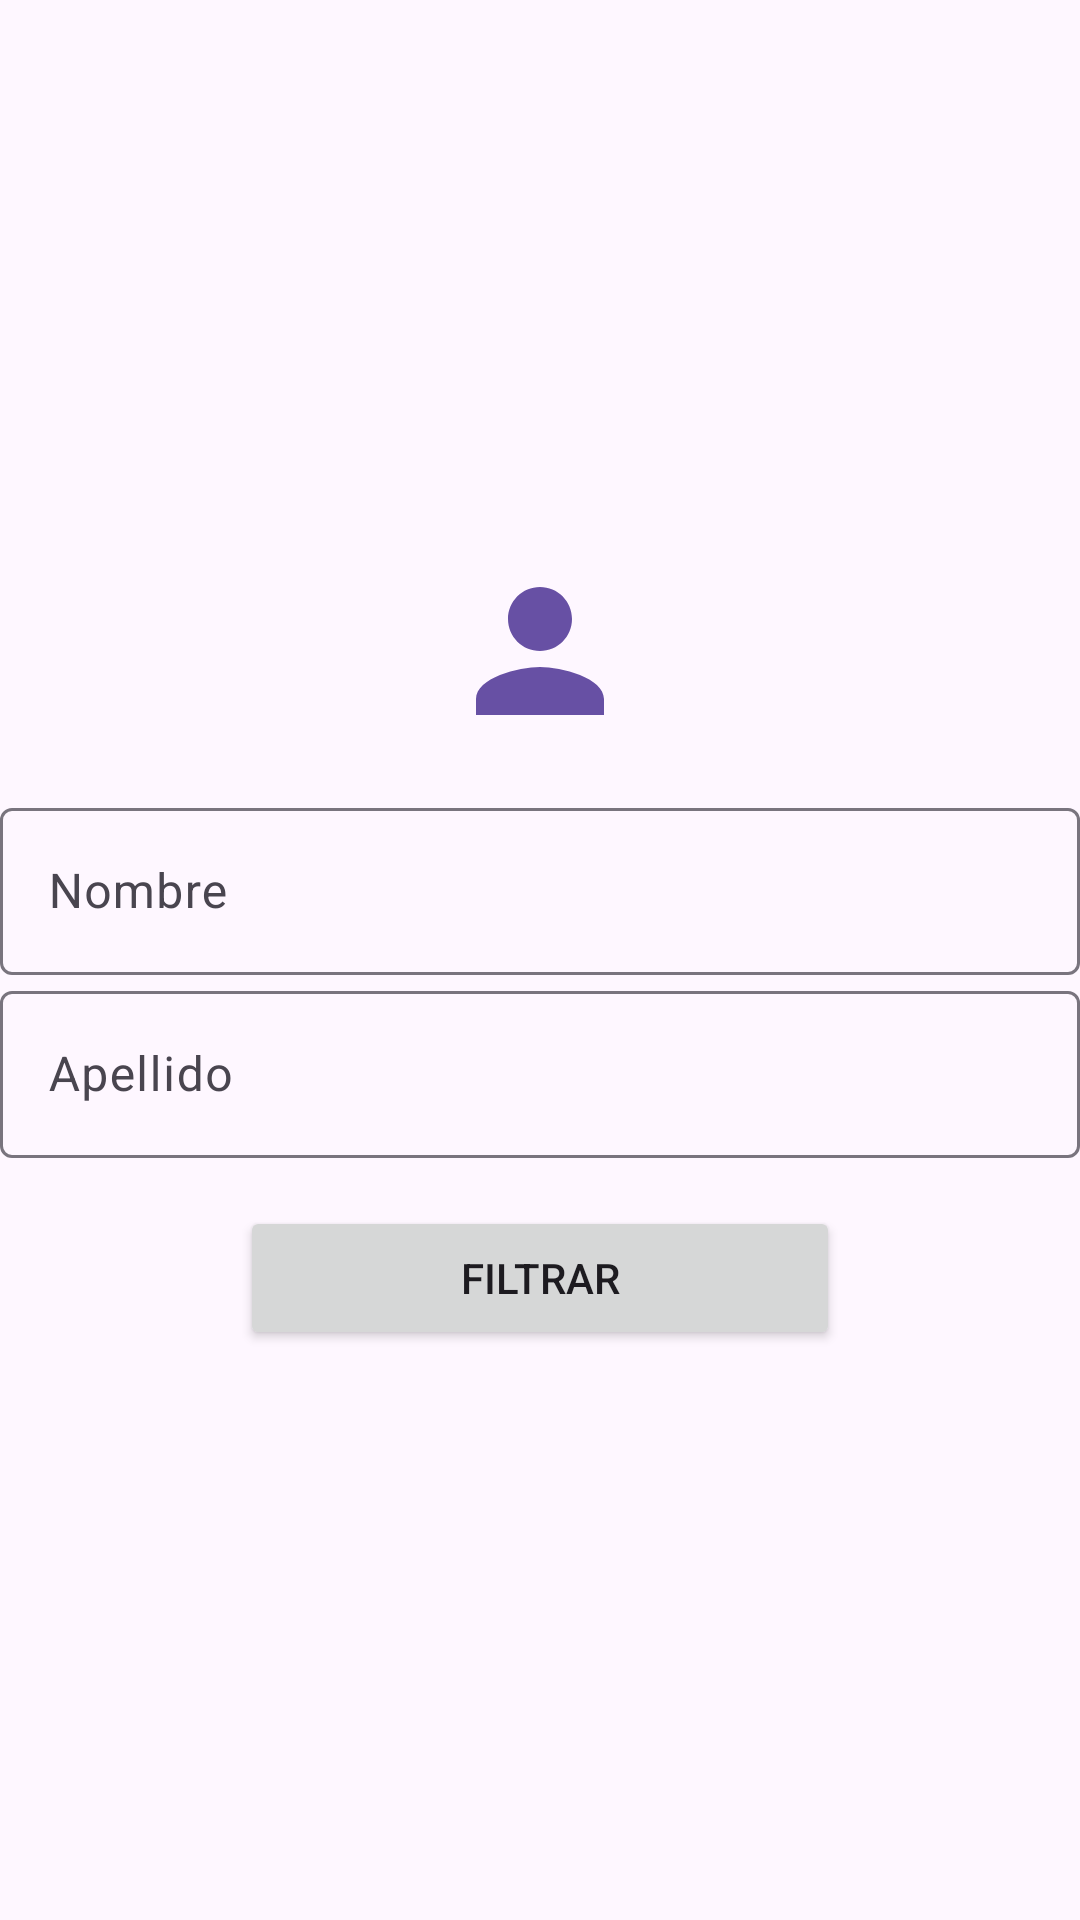

Icons on this 1080*1920 Android screen, each with its box as bbox=[x1, y1, x2, y2]:
person: bbox=[476, 587, 604, 715]
